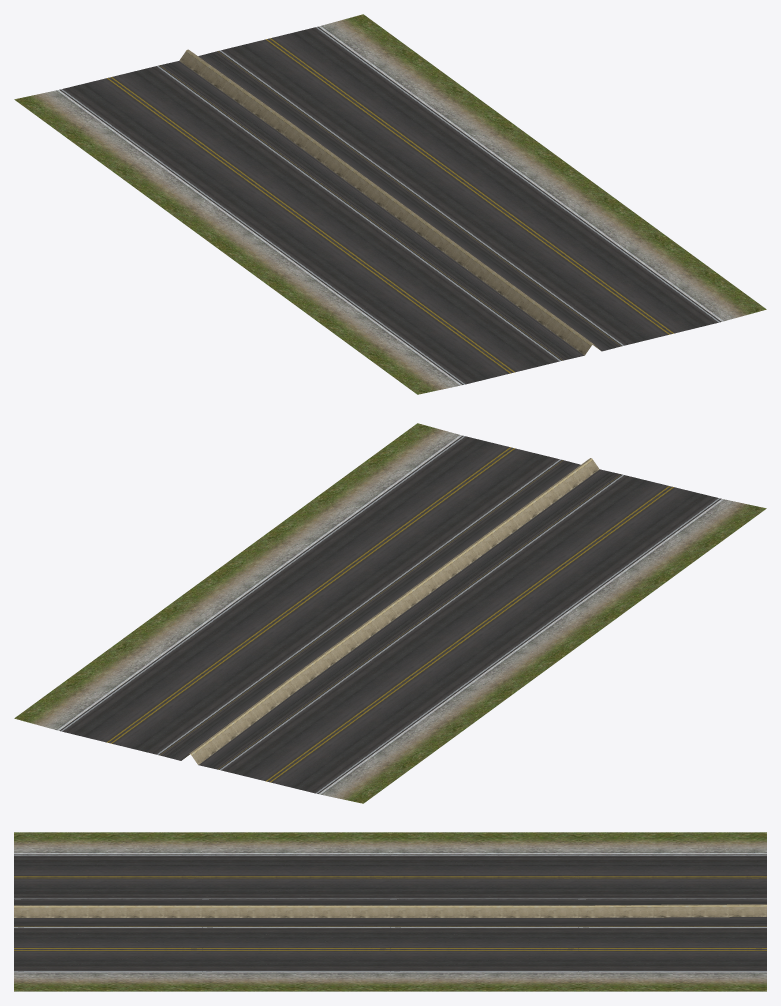
File: vegassedge13.obj
3 views of the same model, one above another, from view 1: azimuth 30°, elevation 25°; view 2: azimuth 150°, elevation 25°; view 3: azimuth 270°, elevation 25° (orthographic). The views are drawn at different scales.
Visible parts, largest first — view 1: vegasSedge13; view 2: vegasSedge13; view 3: vegasSedge13.
Part boxes in pixels (x1,y1,x2,y2): vegasSedge13: [14, 14, 766, 394]; vegasSedge13: [14, 423, 766, 803]; vegasSedge13: [14, 832, 766, 991].
Bounding box in the file's own units: 40 × 0.9823 × 80.
5 materials, 5 textured.
